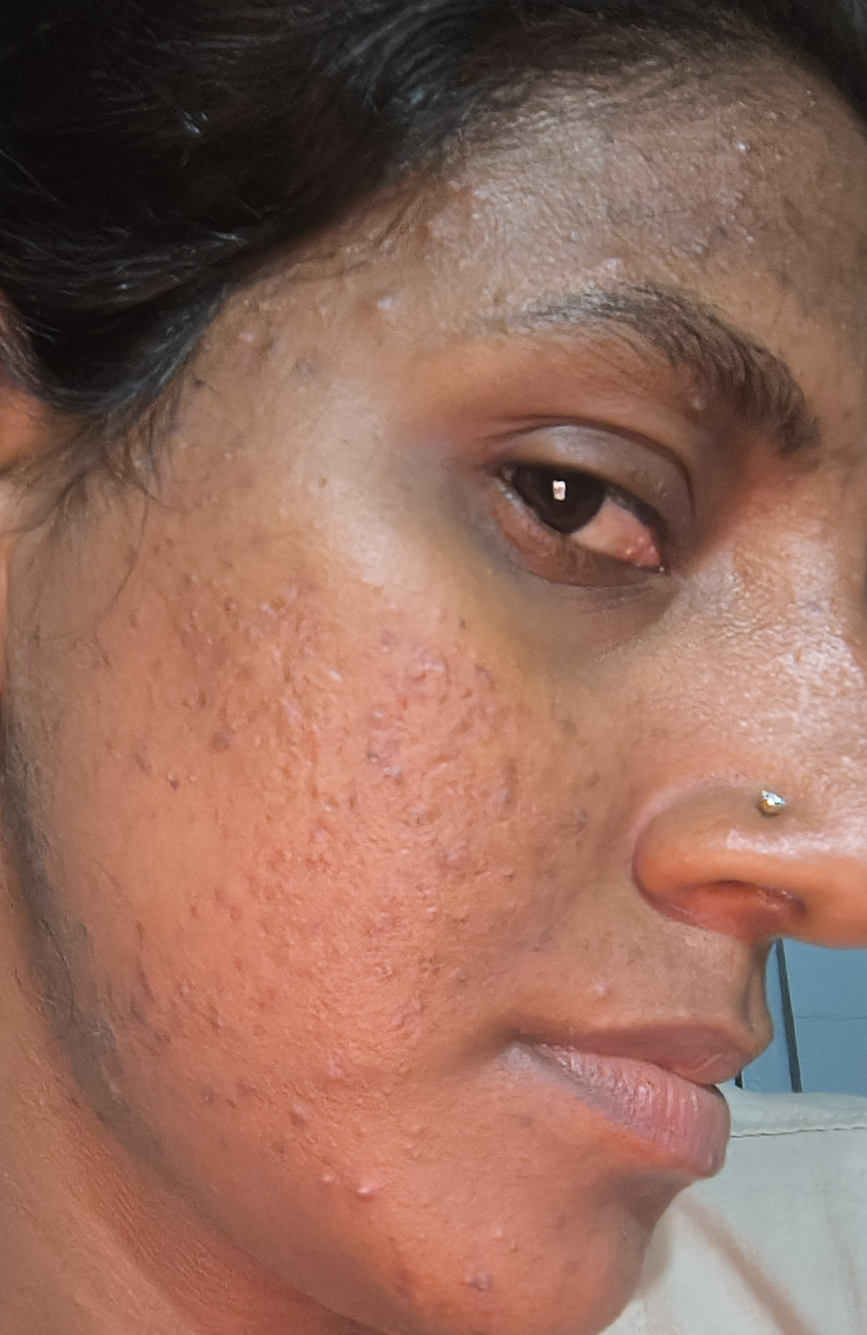closed_comedone: (154, 737, 207, 803), (682, 378, 713, 433)
papule: (209, 285, 310, 356), (108, 946, 196, 1025), (728, 109, 799, 201), (405, 649, 484, 728), (563, 230, 649, 301), (359, 257, 418, 349), (431, 1246, 511, 1303), (407, 887, 478, 950), (268, 1072, 328, 1133), (579, 959, 627, 1019), (370, 763, 429, 807)
pustule: (341, 1162, 405, 1237)
